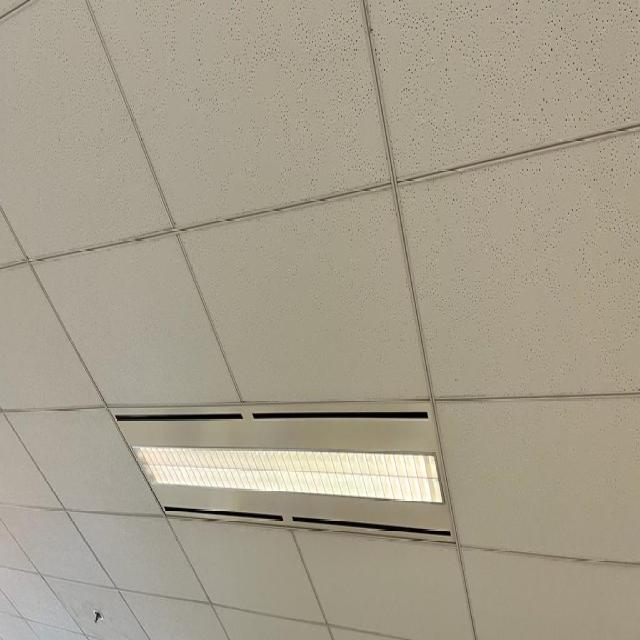Light-Opened: (109, 397, 458, 539)
